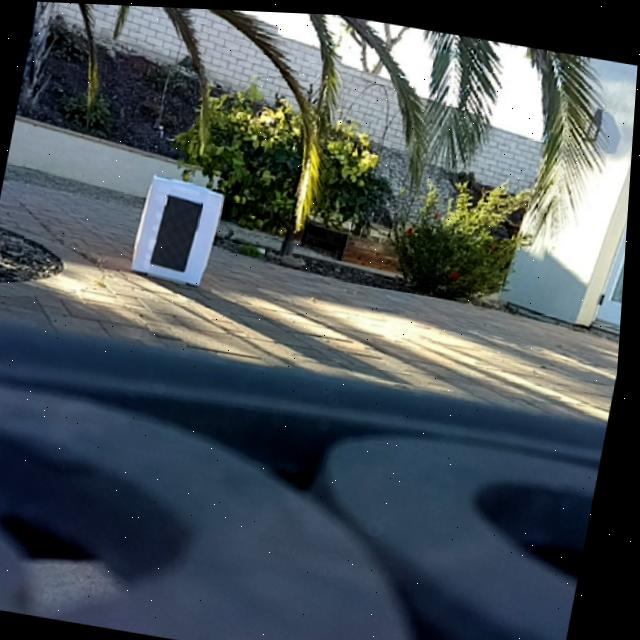led: (154, 192, 204, 271)
